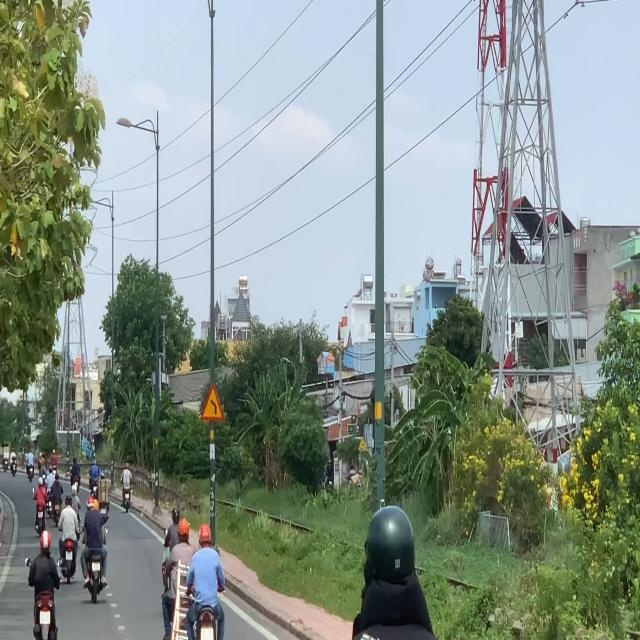bien_nguy_hiem: (200, 381, 227, 425)
